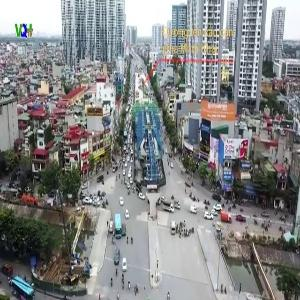drone: (63, 234, 99, 270)
